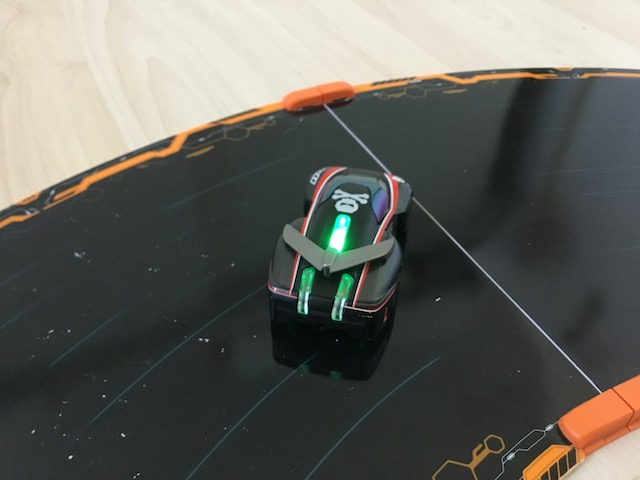car-red: (262, 161, 416, 344)
